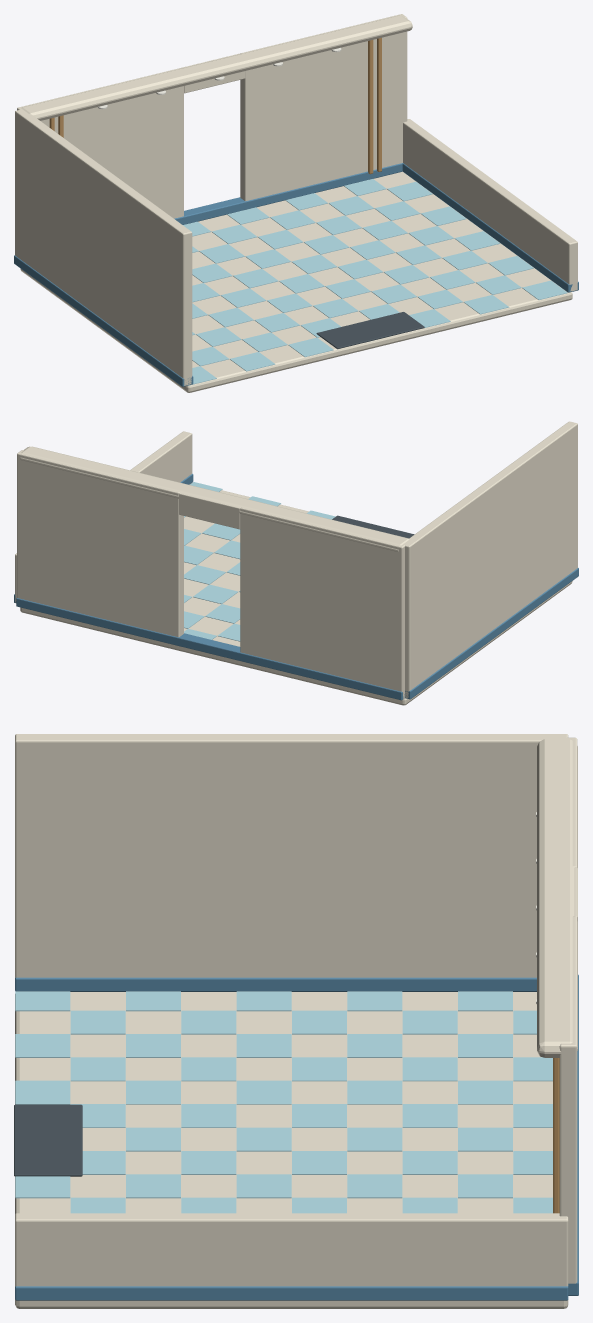
File: lobby_T3_shell.glb
The picture shows the model from 3 angles, top to bottom: view 1: azimuth 30°, elevation 25°; view 2: azimuth 150°, elevation 25°; view 3: azimuth 270°, elevation 25°; orthographic projection. The views are drawn at different scales.
Parts seen in each view (by area): view 1: lobby_T3_shell__Static_Assembly; view 2: lobby_T3_shell__Static_Assembly; view 3: lobby_T3_shell__Static_Assembly.
Part boxes in pixels (bbox=[...]): lobby_T3_shell__Static_Assembly: bbox=[14, 14, 578, 392]; lobby_T3_shell__Static_Assembly: bbox=[14, 421, 578, 705]; lobby_T3_shell__Static_Assembly: bbox=[14, 734, 578, 1308].
Size of the model in its own units: 6.79 by 2.65 by 5.1.
